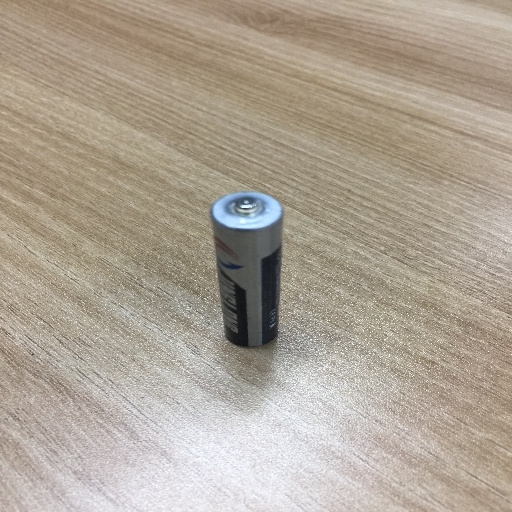Battery_0: (200, 171, 311, 368)
